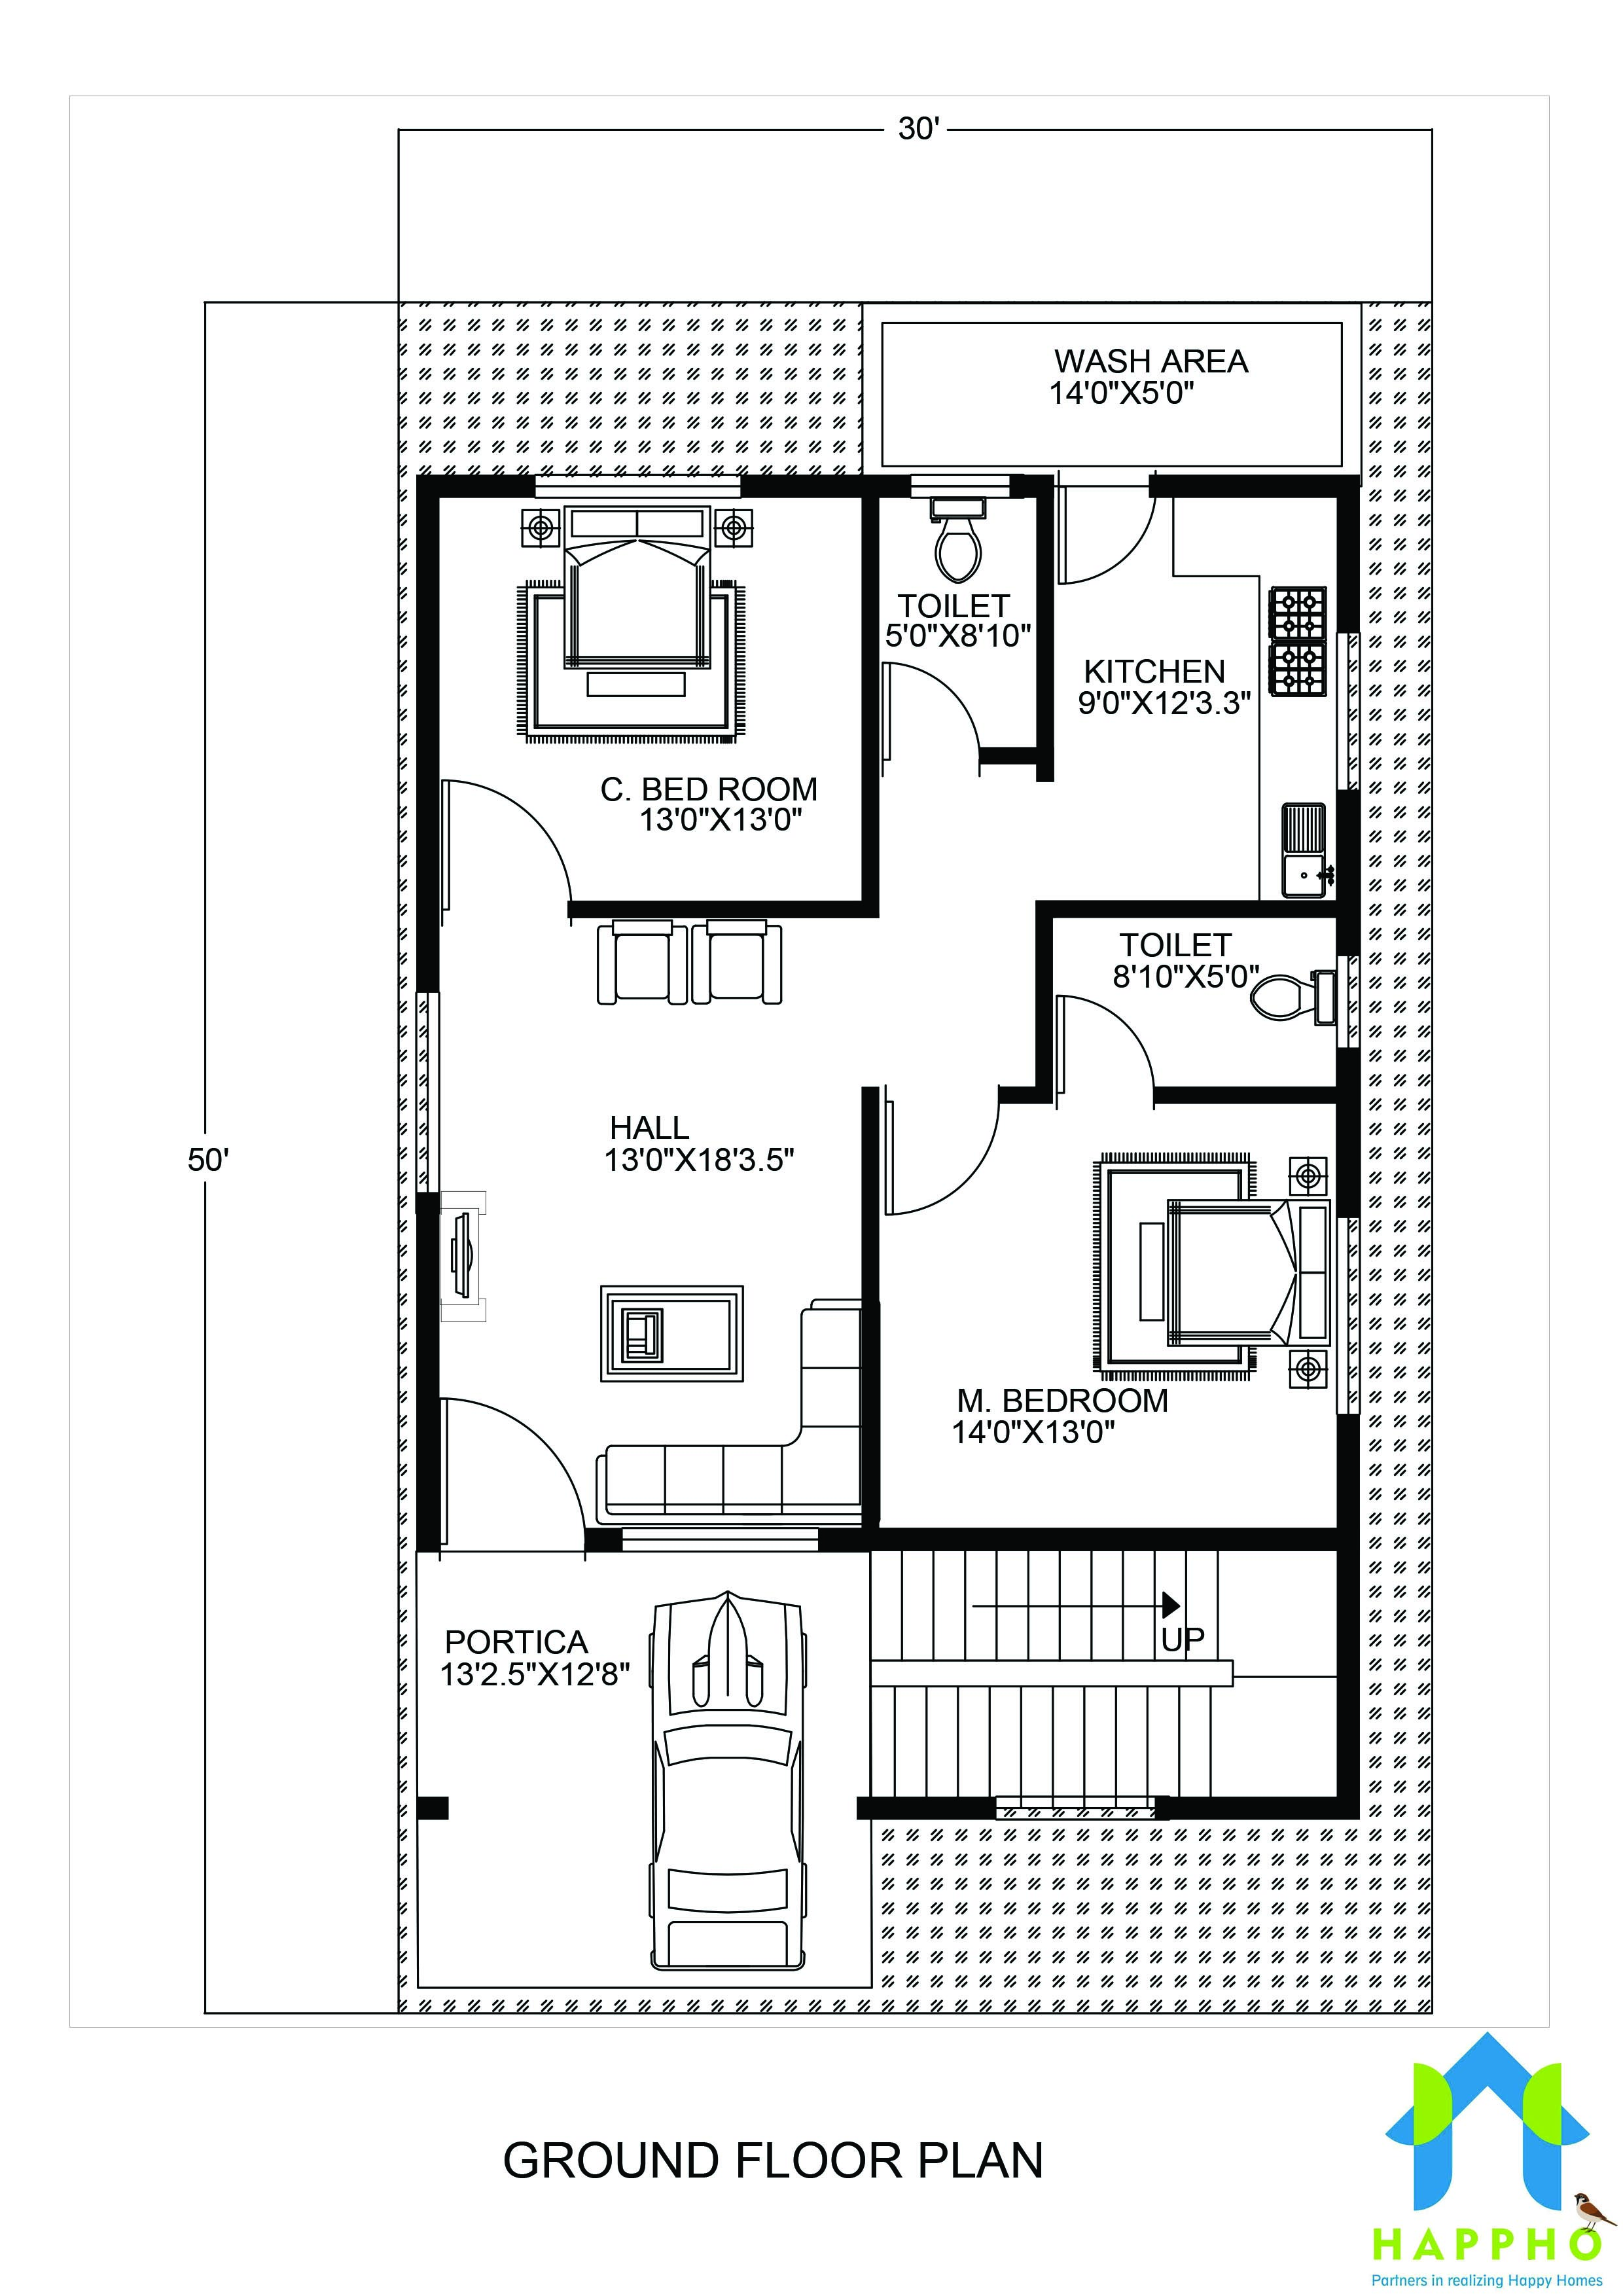door: (443, 1393, 590, 1528), (437, 773, 574, 917), (884, 1096, 1003, 1219), (878, 659, 985, 776), (1054, 991, 1158, 1108), (1052, 483, 1161, 585)
